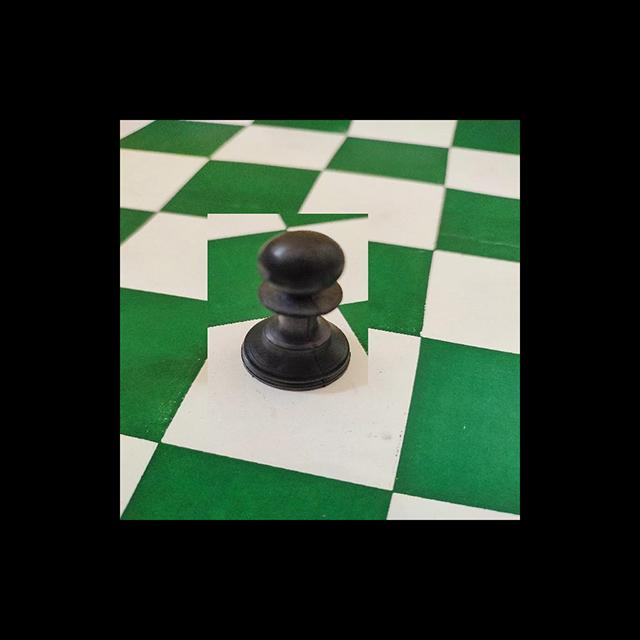black-pawn: (240, 231, 353, 391)
